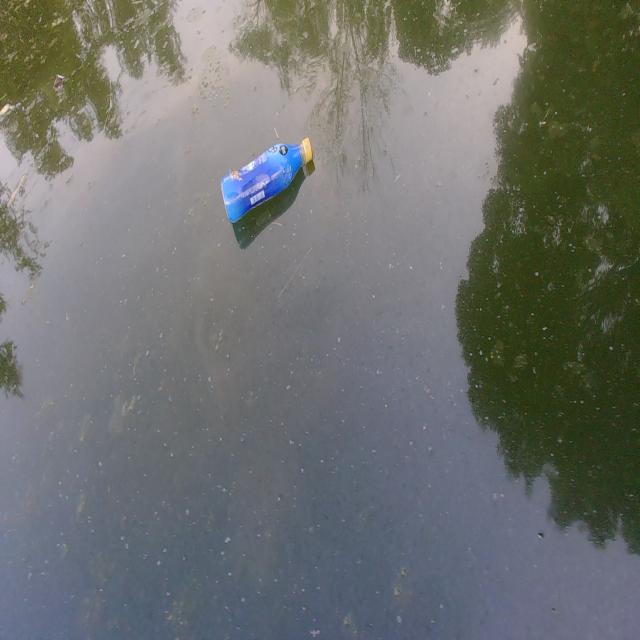Bottle: (219, 131, 316, 221)
